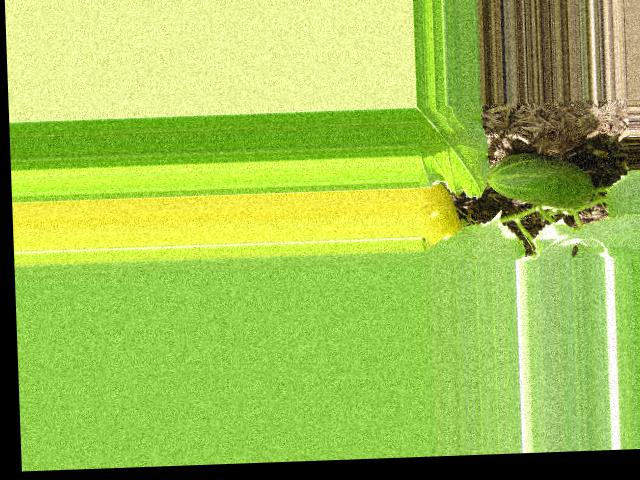cucumber: (487, 149, 595, 211)
